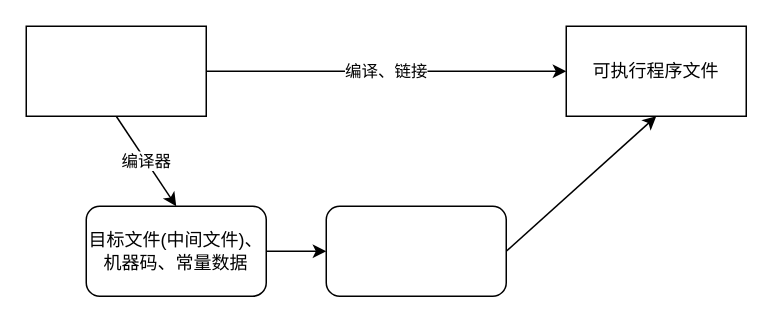
Image size: 773x323. Some labels were removed from this diagram. The shapes that lost their labels are listed below. From the top down, each one's centre as x and y in pixels, then its label:
point (115, 70): 文本源码
point (415, 250): 链接器
